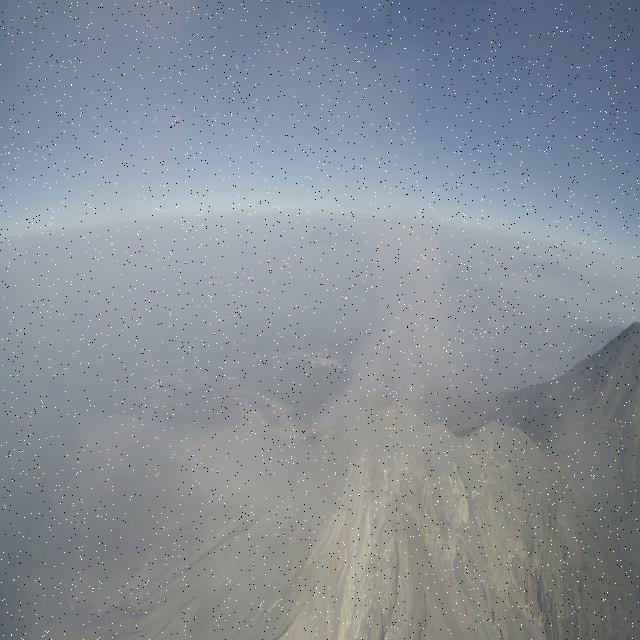Summit: (287, 380, 463, 558)
